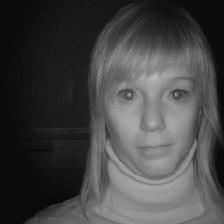normal: (81, 8, 224, 191)
